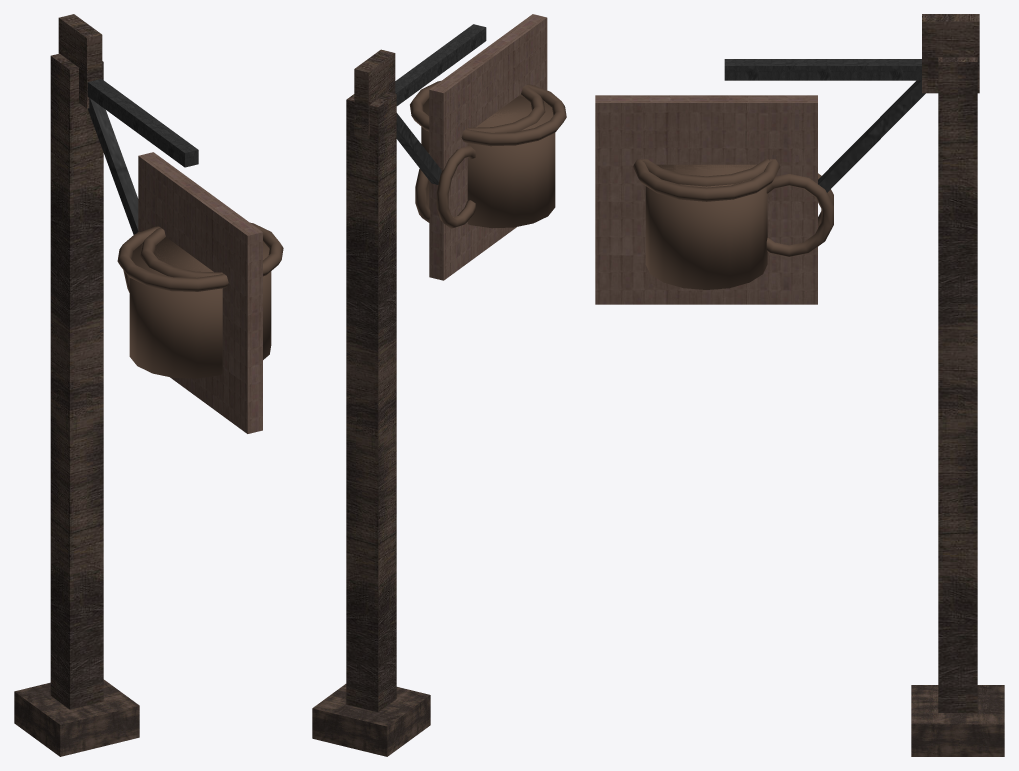
The model's file is prop_tradesign_tavern.glb.
3 renders of one model, left to right at view 1: azimuth 30°, elevation 25°; view 2: azimuth 150°, elevation 25°; view 3: azimuth 270°, elevation 25°, orthographic. The views are drawn at different scales.
Visible parts, largest first — view 1: prop_tradesign_tavern; view 2: prop_tradesign_tavern; view 3: prop_tradesign_tavern.
Part boxes in pixels (x1,y1,x2,y2): prop_tradesign_tavern: (14, 14, 283, 756); prop_tradesign_tavern: (312, 14, 566, 756); prop_tradesign_tavern: (595, 14, 1004, 756).
Bounding box in the file's own units: 0.484 × 2.21 × 1.14.
4 materials, 3 textured.
